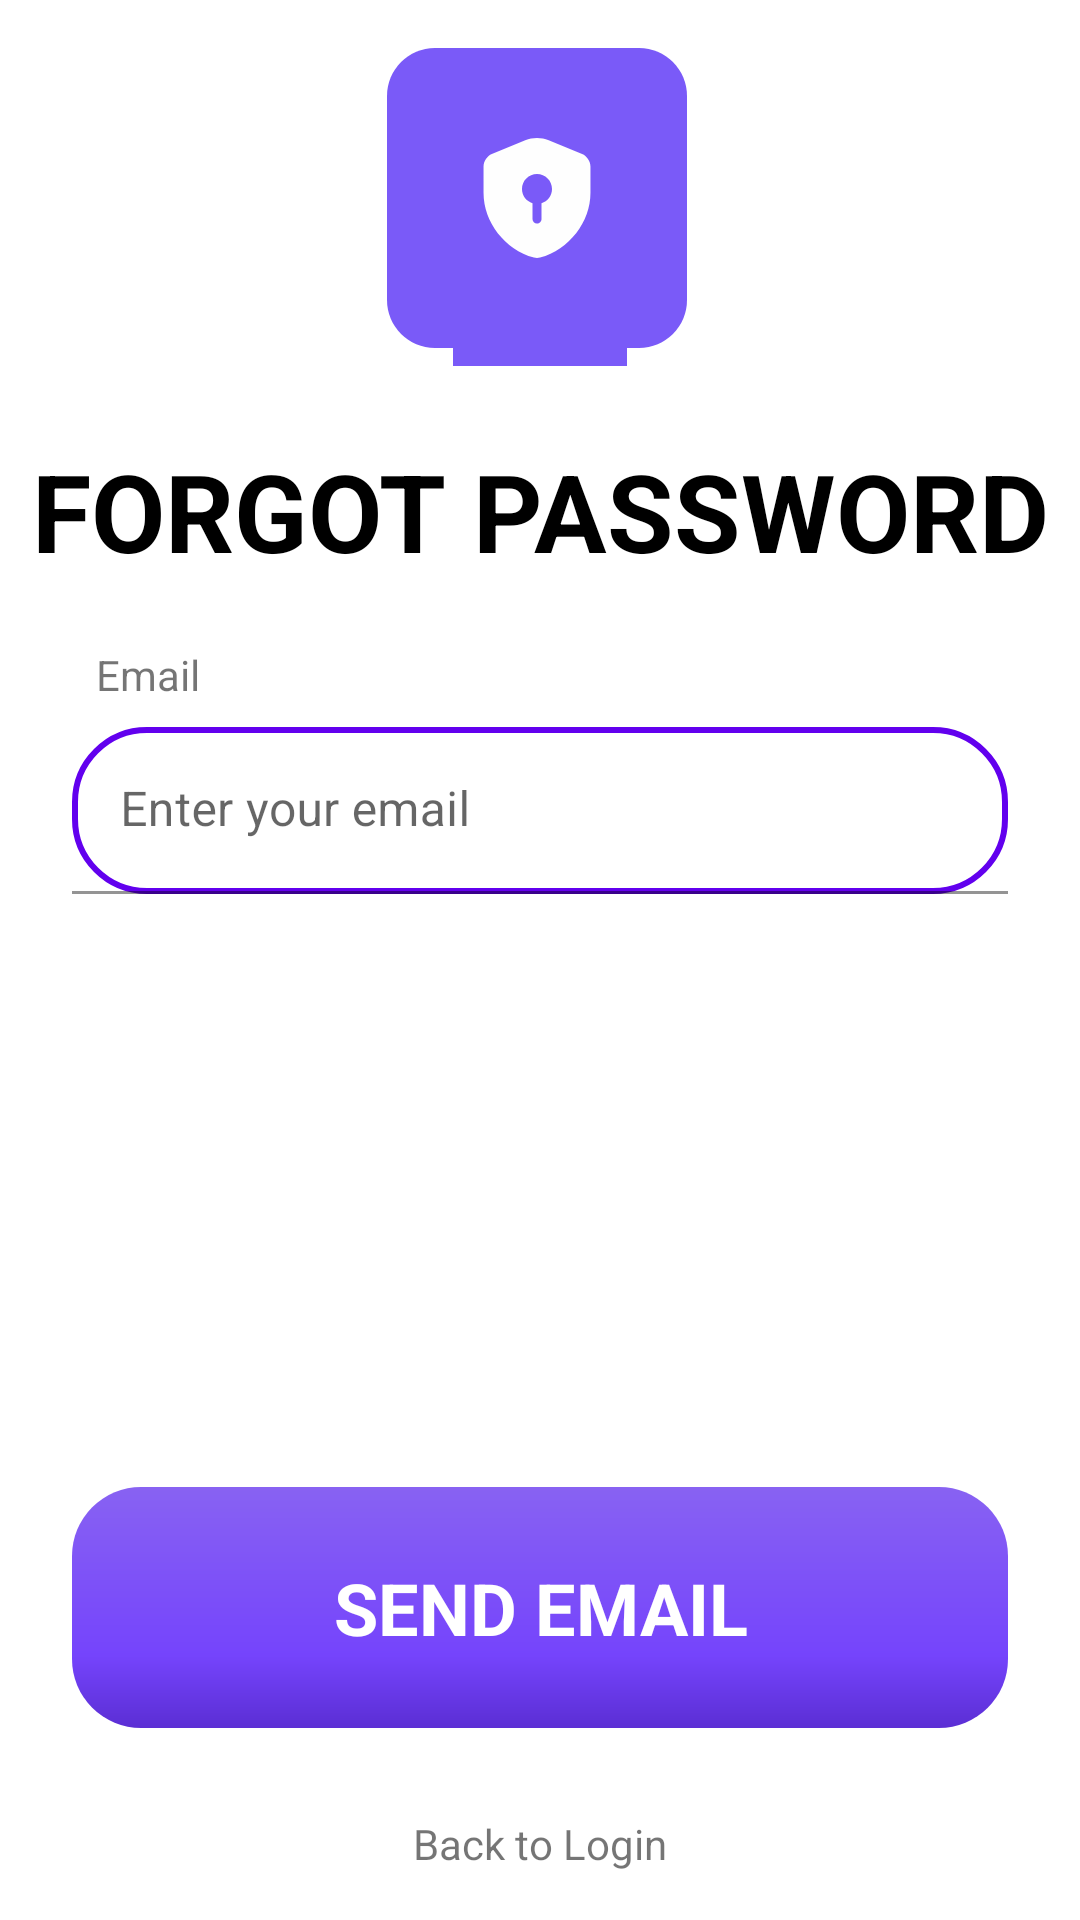

Where to tap for icons on this 1080 x 1920 app screen, as point (x, y):
lock: point (537, 207)
